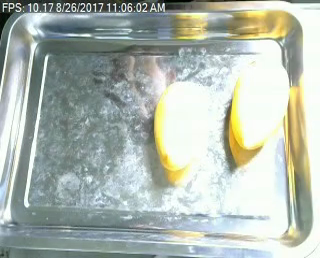Mango: (231, 56, 292, 154), (147, 82, 210, 171)
